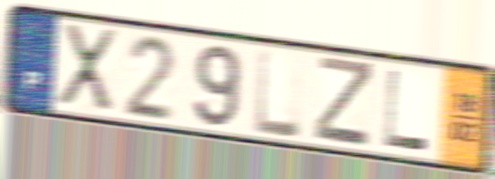2: (122, 33, 179, 124)
9: (189, 41, 245, 131)
L: (253, 47, 304, 141), (382, 66, 432, 154)
X: (54, 20, 120, 118)
Z: (312, 53, 377, 151)
